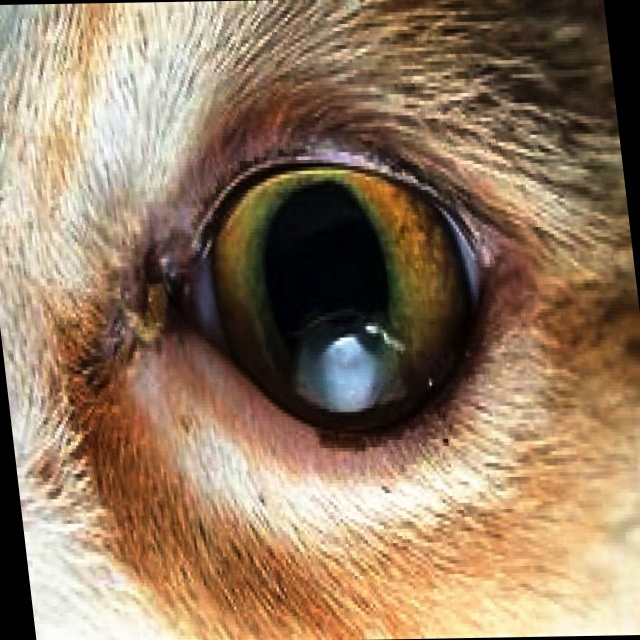eye_infection: (127, 147, 527, 451)
